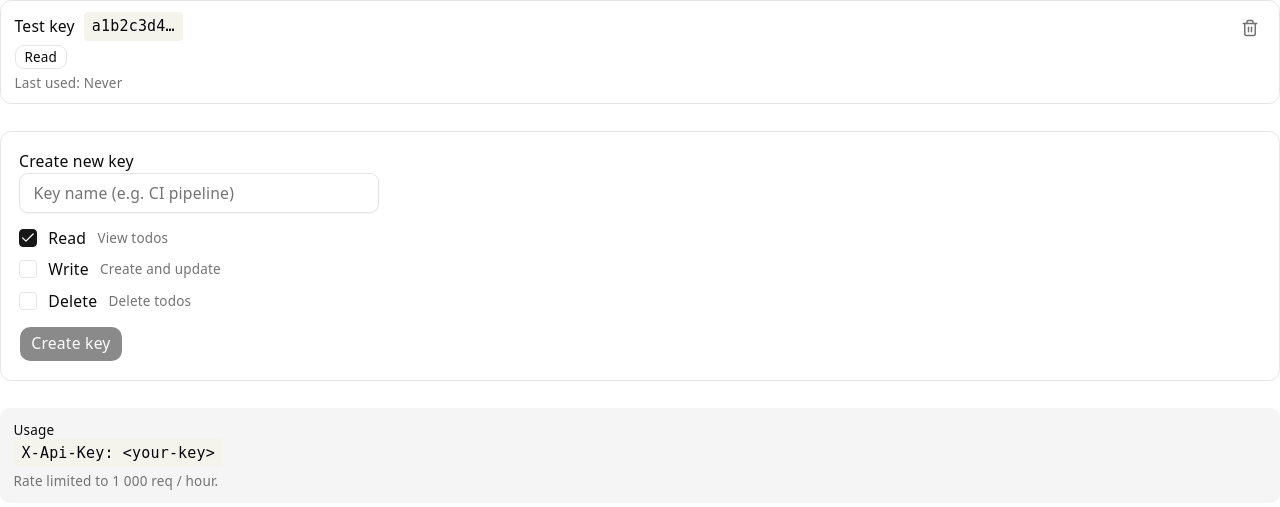
Test case: ApiKeysSection › create button enabled after entering name
Check: the text "Test key" is shown, box [14,15,75,38]
In the field with placeholder "Key name (e.g. CI pipeline)": (199, 193) [19,173,379,213], type "My CI key"
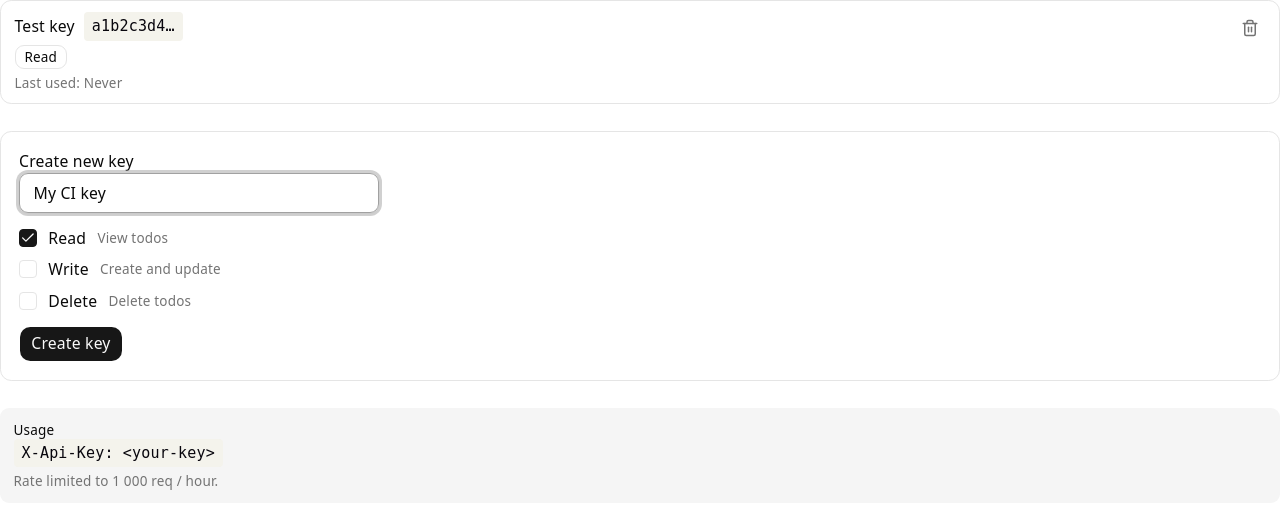
Check: the button "Create key" is enabled, box [19,326,123,362]
